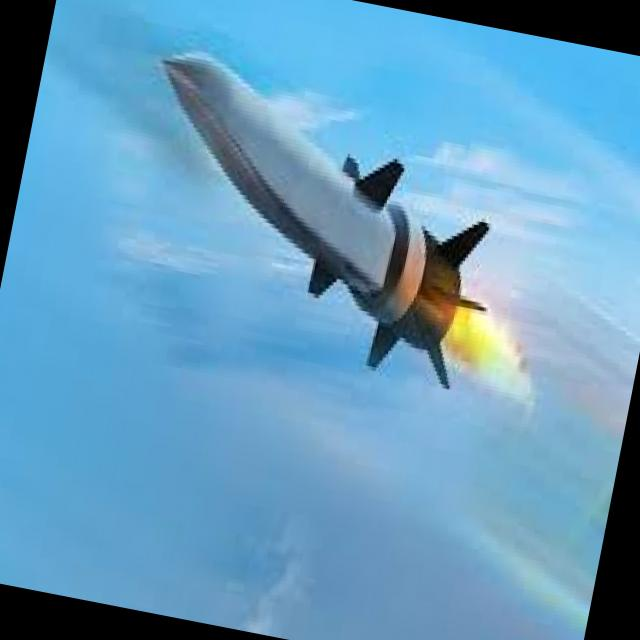rocket: (112, 45, 553, 403)
